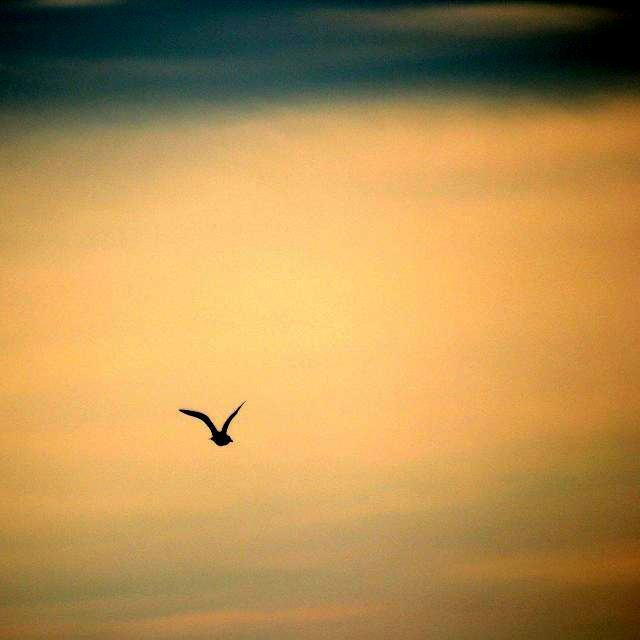bird: (174, 390, 249, 453)
